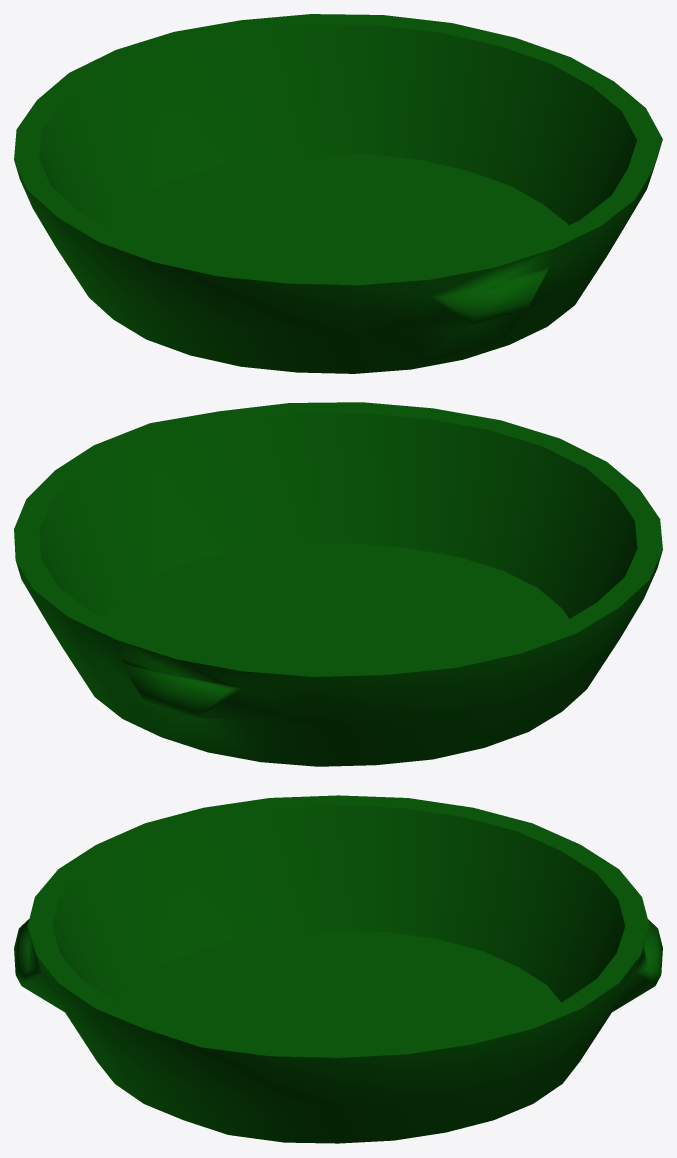
The model's file is jug13.FBX.
3 views of the same model, one above another, from view 1: azimuth 30°, elevation 25°; view 2: azimuth 150°, elevation 25°; view 3: azimuth 270°, elevation 25° (orthographic). The views are drawn at different scales.
Visible parts, largest first — view 1: SM_jug13_0; view 2: SM_jug13_0; view 3: SM_jug13_0.
Part boxes in pixels (left/top/right/bottom): SM_jug13_0: left=14, top=14, right=662, bottom=373; SM_jug13_0: left=14, top=402, right=662, bottom=766; SM_jug13_0: left=14, top=795, right=662, bottom=1143.
Size of the model in its own units: 42.17 by 44.06 by 8.39.
